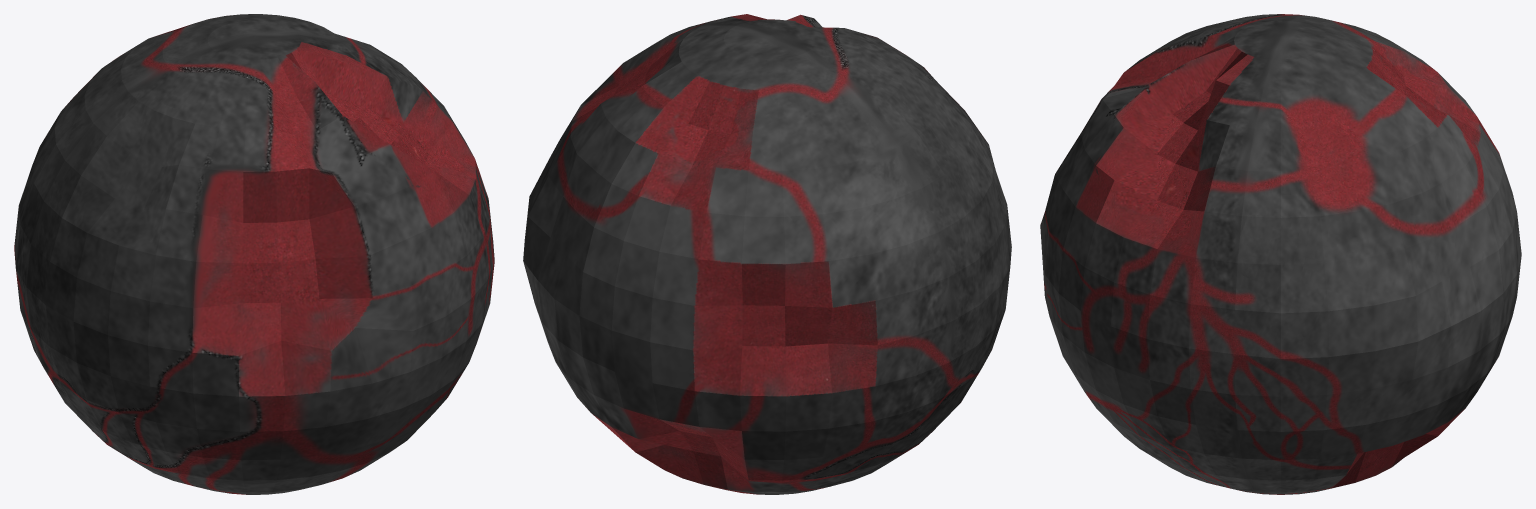
File: Asteroid2.fbx
3 renders of one model, left to right at view 1: azimuth 30°, elevation 25°; view 2: azimuth 150°, elevation 25°; view 3: azimuth 270°, elevation 25°, orthographic.
Visible parts, largest first — view 1: Сфера.001; view 2: Сфера.001; view 3: Сфера.001.
Boxes of the visible parts, x1=… form: Сфера.001: x1=14, y1=14, x2=494, y2=494; Сфера.001: x1=523, y1=14, x2=1011, y2=494; Сфера.001: x1=1040, y1=14, x2=1521, y2=494.
Size of the model in its own units: 2.03 by 2 by 2.
1 material, 1 textured.
